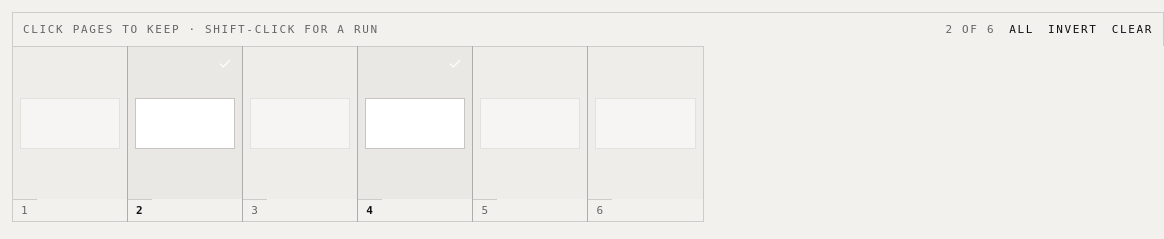
Test: PageGrid keep / remove › All, Invert and Clear
This screenshot has width=1164, height=239.
Step 1. Click the button "Invert" → (1073, 30), box [1042, 18, 1104, 42]
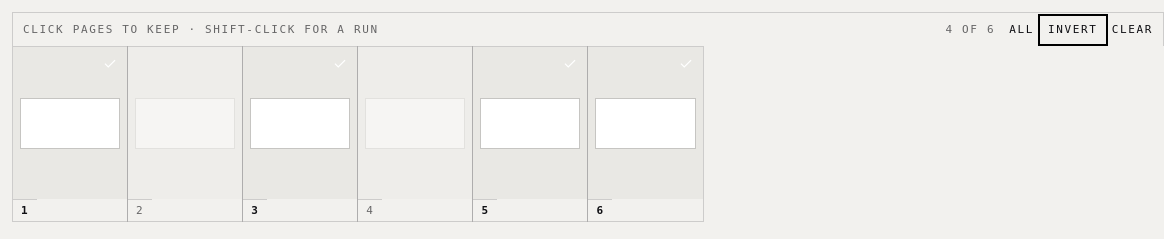
Step 2. Click the button "All" → (1022, 30), box [1003, 18, 1040, 42]
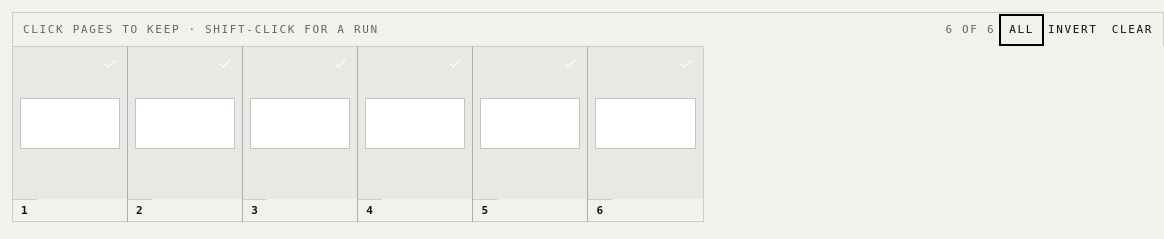
Step 3. Click the button "Clear" → (1132, 30), box [1106, 18, 1159, 42]
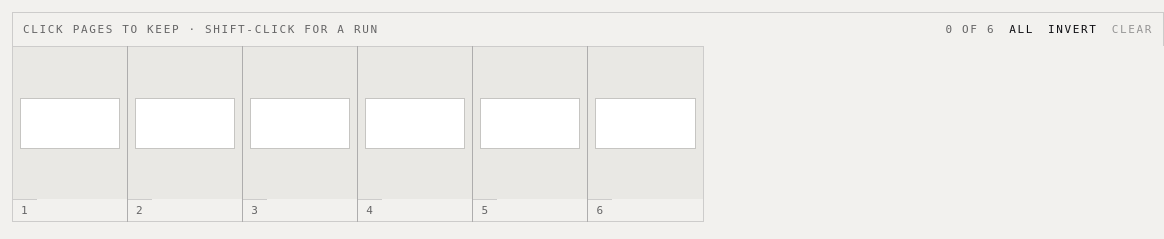
Expected: the button "Clear" is disabled, [1106, 18, 1159, 42]
